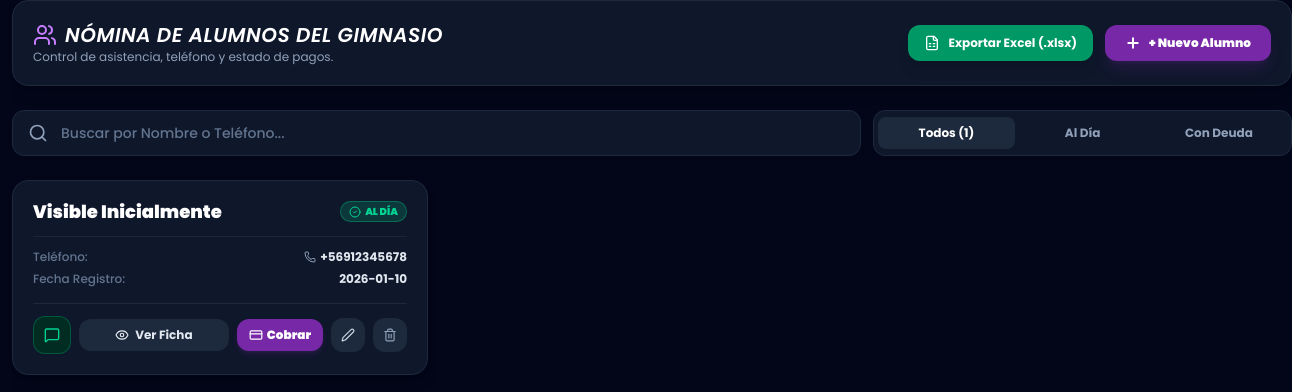
it: StudentsTab › shows an empty-state message when no students match the filters
The width and height of the screenshot is (1292, 392).
Expected: the heading "Visible Inicialmente" is shown, x1=33 y1=201 x2=222 y2=224
Type "zzz-no-existe" into the field with placeholder "Buscar por Nombre o Teléfono..." at (437, 133), box x1=12 y1=110 x2=861 y2=156
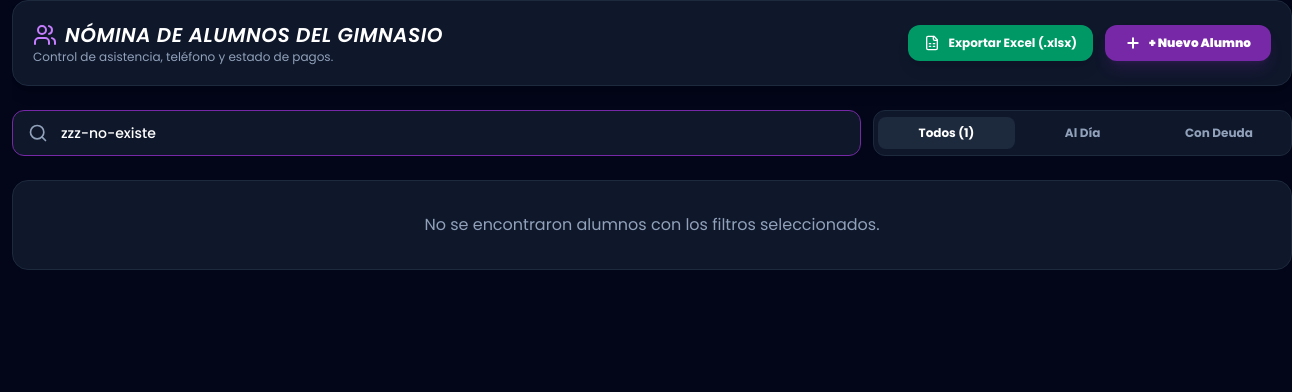
Now the text "No se encontraron alumnos con los filtros seleccionados." is shown, box x1=12 y1=180 x2=1291 y2=270
